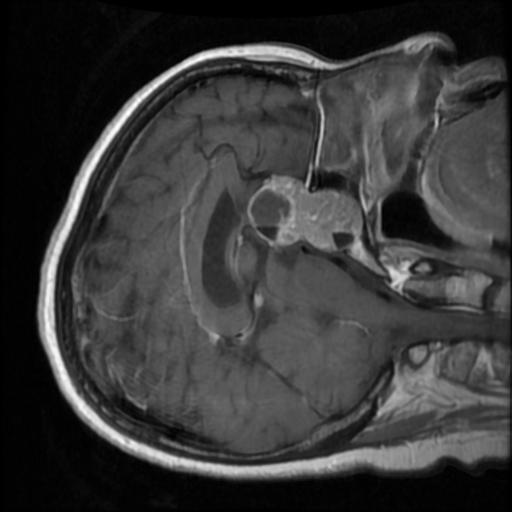pituitary tumour: (246, 175, 362, 252)
